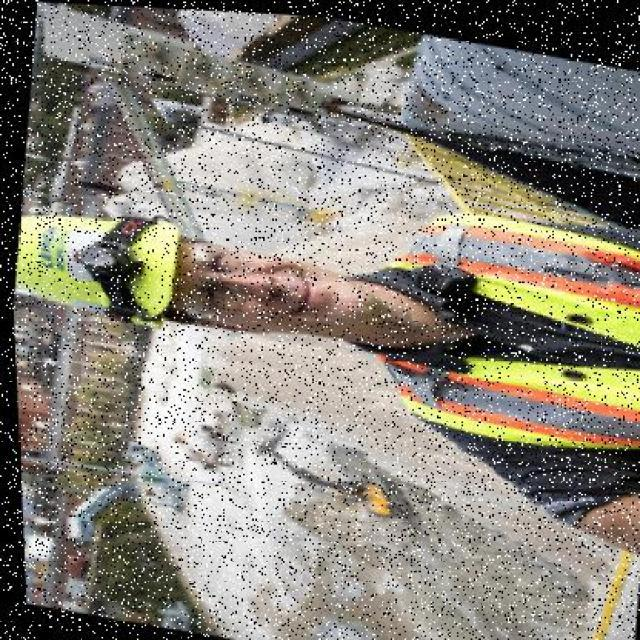helmet: (9, 189, 201, 331)
vest: (376, 191, 639, 457)
